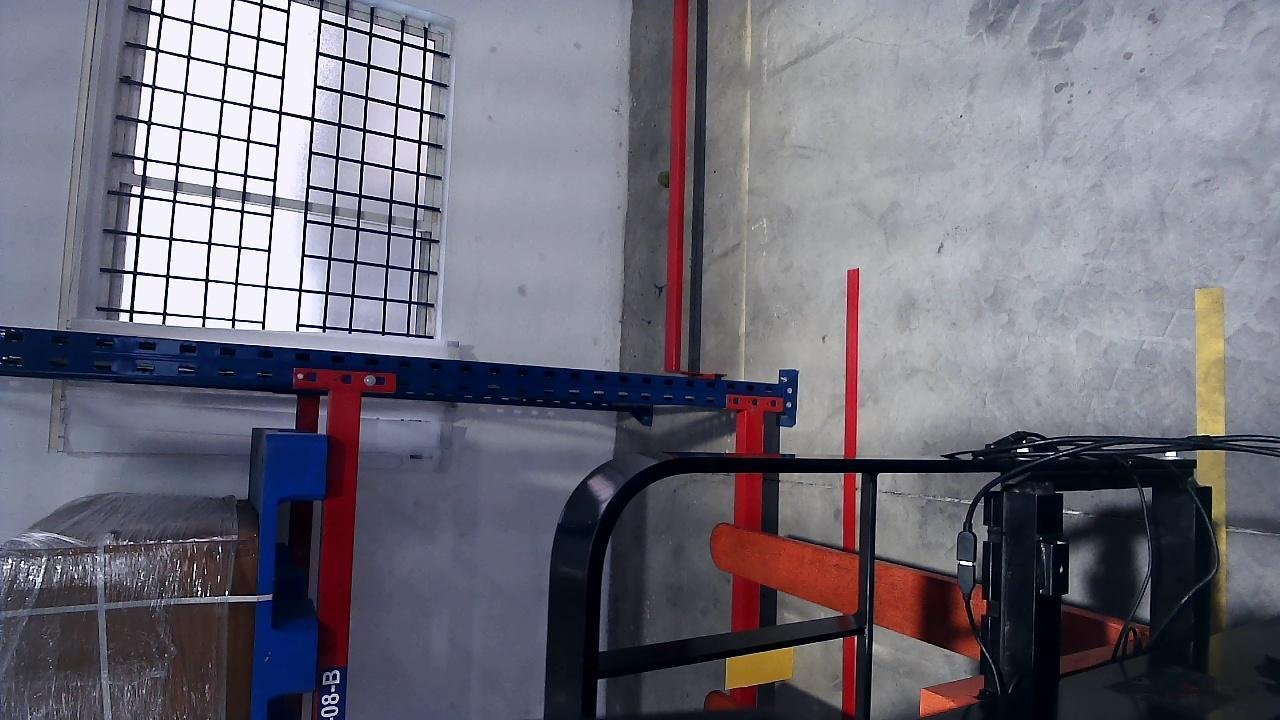red_line: (840, 264, 864, 719)
yellow_line: (1195, 286, 1226, 435)
